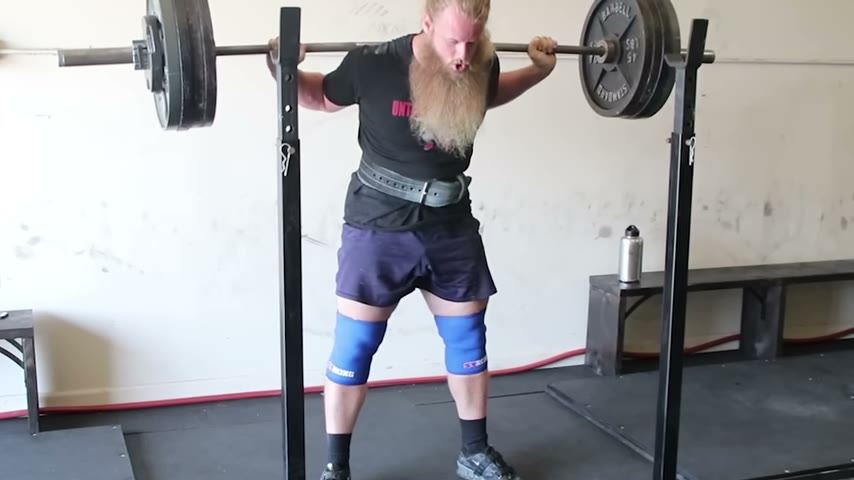barbell_plate_side: (633, 0, 713, 132), (212, 0, 284, 136)
